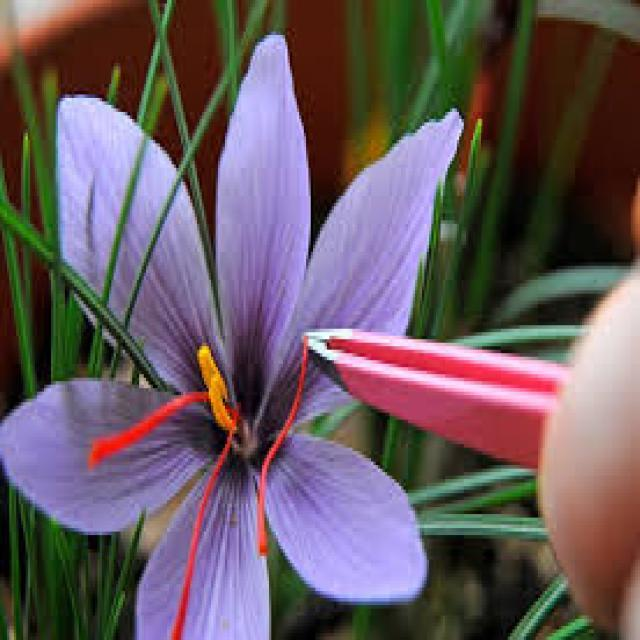Flower: (4, 69, 444, 628)
stigma: (170, 430, 236, 640), (244, 339, 304, 567), (79, 390, 169, 482)
